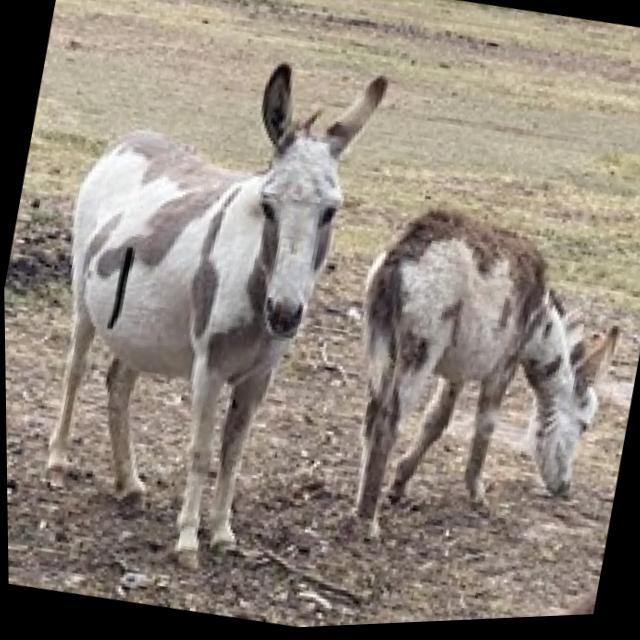Donkey: (6, 22, 398, 596), (316, 190, 640, 585), (356, 530, 600, 628), (524, 562, 600, 622)
